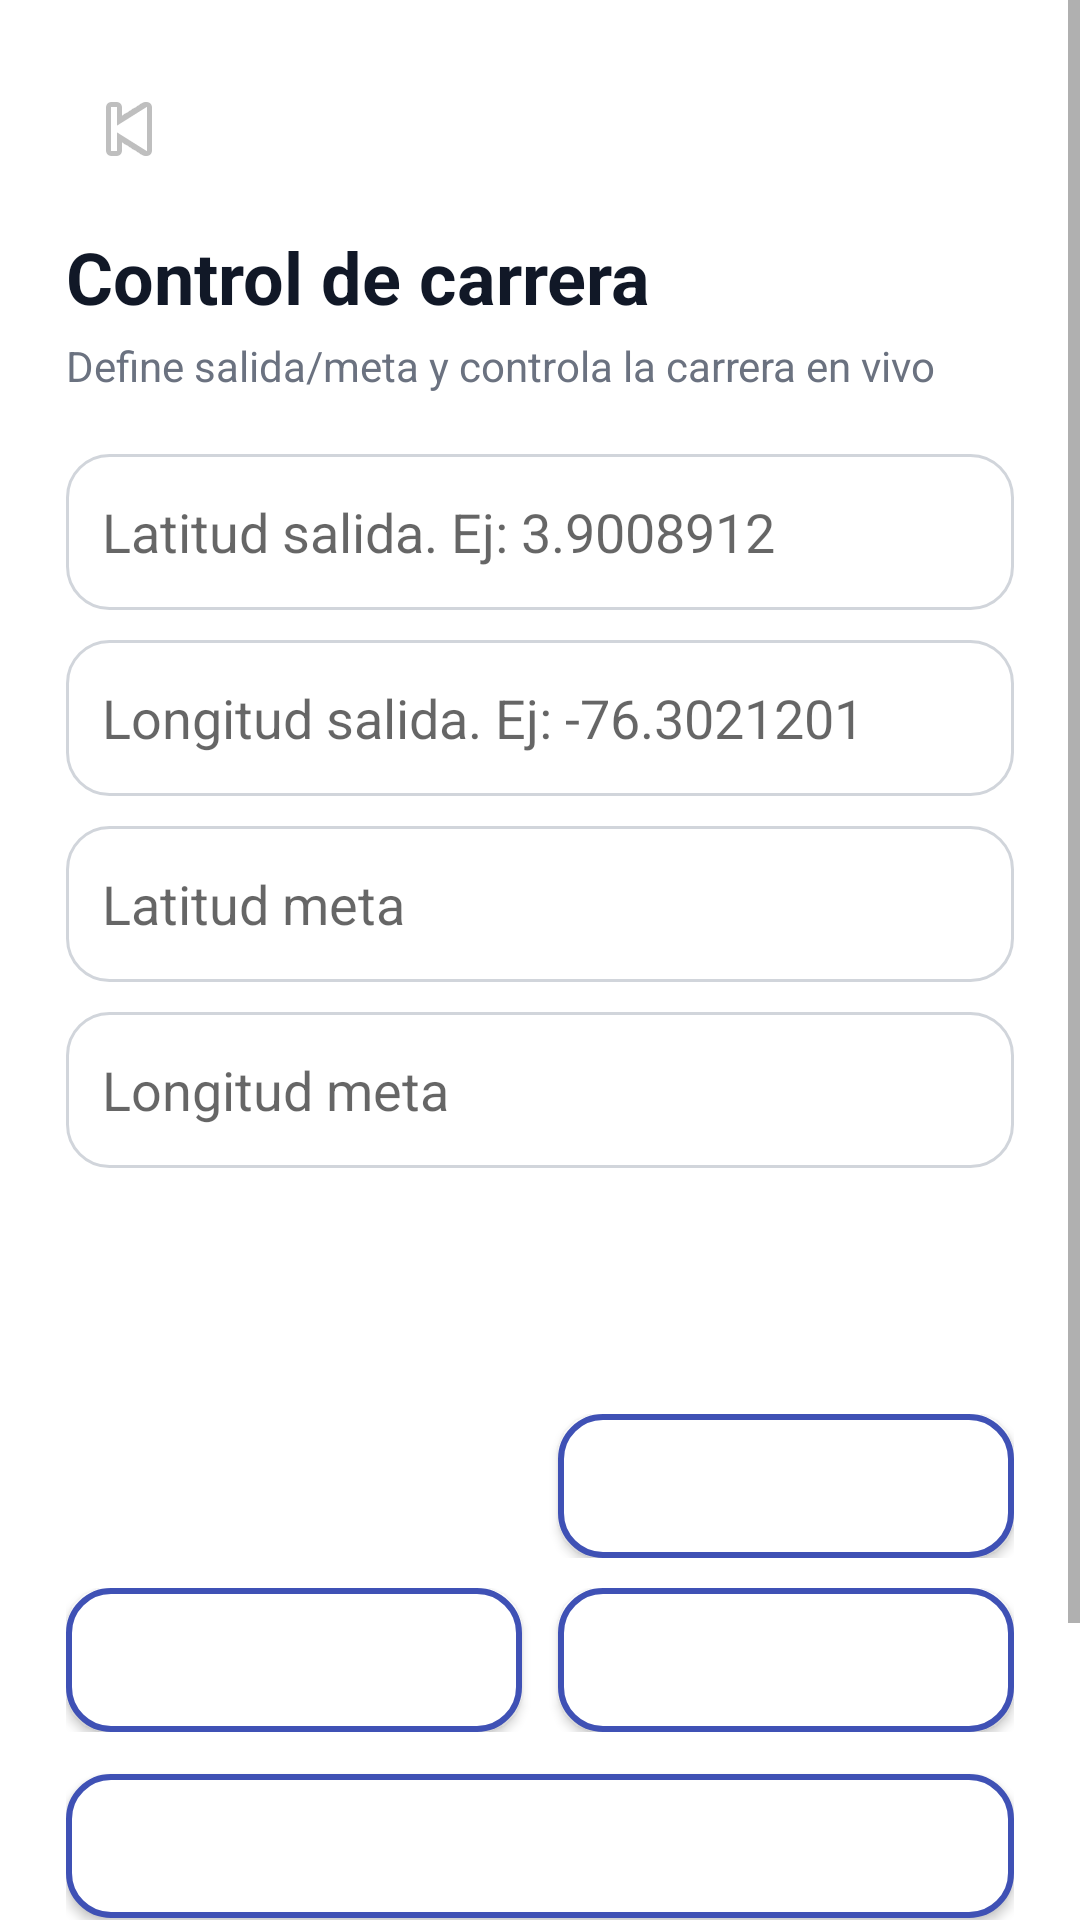

Named icons in this screenshot (1080 x 1920) and their centers, [x,y]:
Volver: [129,129]
